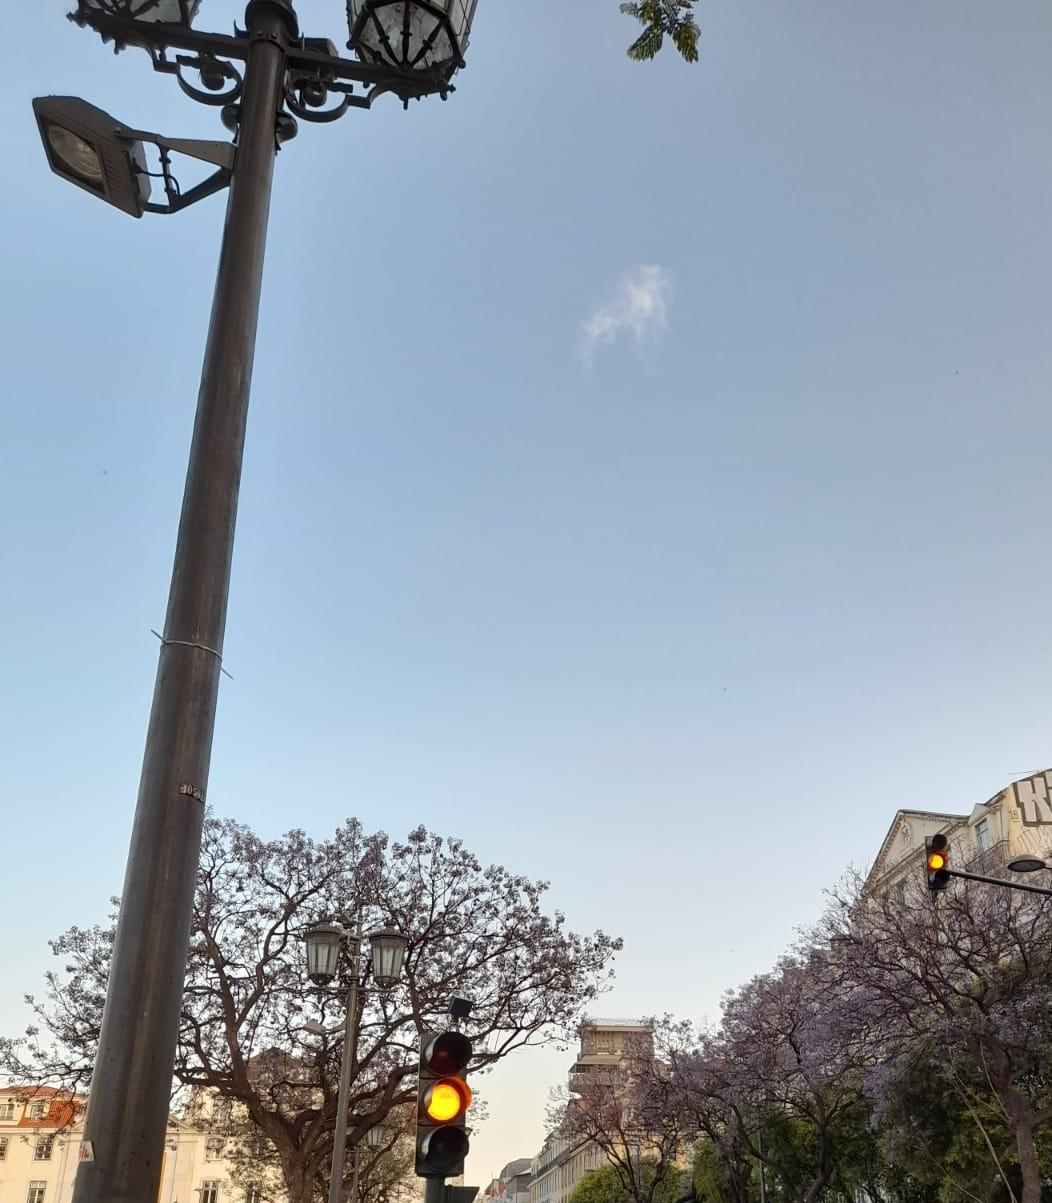yellow_light: (415, 1031, 473, 1177), (924, 834, 950, 889)
